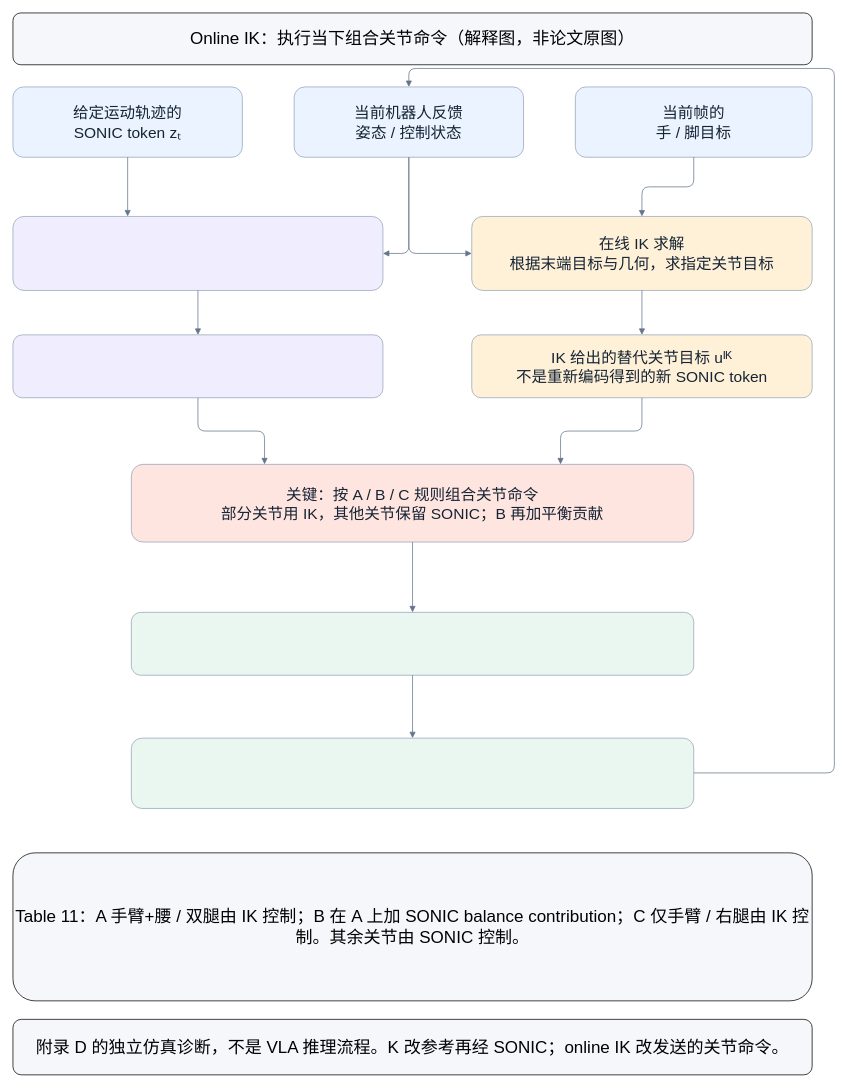
Some shapes in this 853 by 1088 pixel diagram are drawn without their labels. The box of each missing label's shape, as (x1, y1, x2, y2) in pixels:
SONIC 原本要发送的 身体关节目标 uˢ: (12, 334, 383, 398)
SONIC 控制器 结合 token 与自身反馈，产生协调身体命令: (12, 216, 383, 290)
发送组合后的关节目标 → 仿真机器人执行 这里已经不是原封不动的 SONIC 输出: (131, 612, 694, 675)
测量实际身体状态与手 / 脚位置 记录末端误差、身体倾角、初始化摔倒与 fall events: (131, 737, 694, 808)
